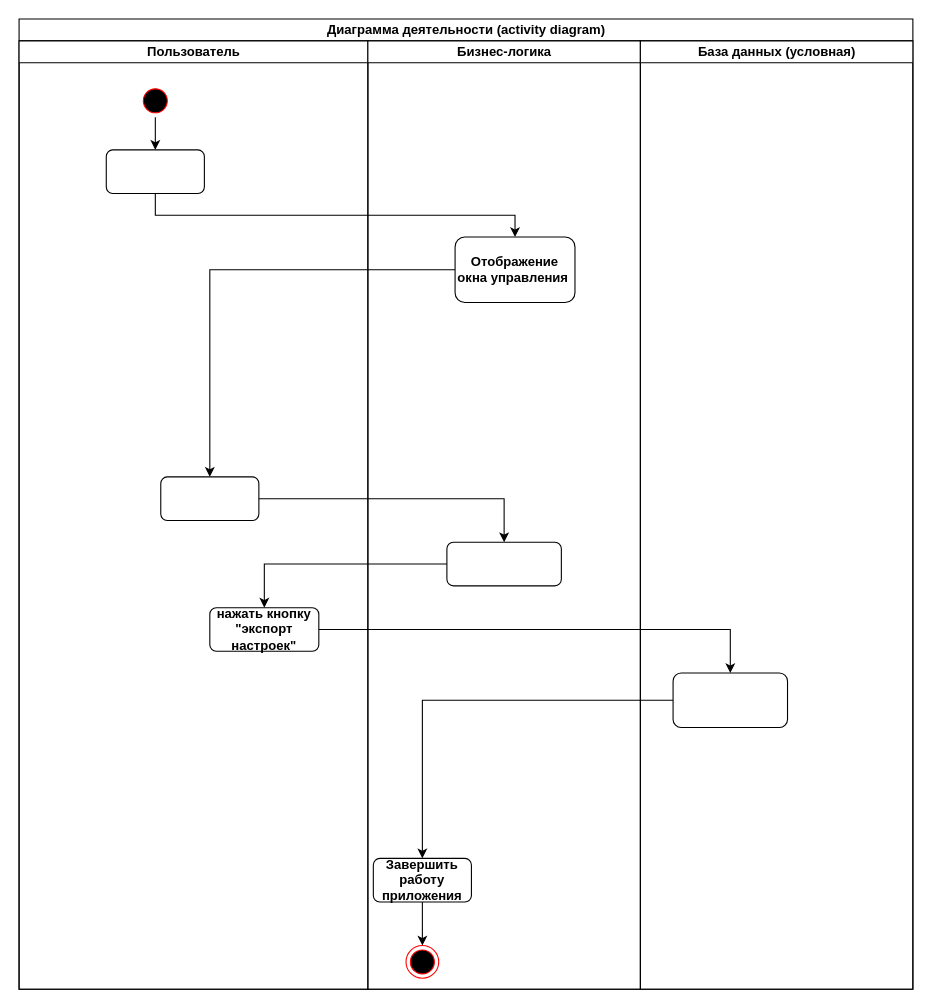
This 932x1008 diagram has some shape labels left out. The shapes that lost their labels are listed below. From the top down, each one's centre as x and y in pixels, then its label:
At pixel 154 171: "Запуск программы".
At pixel 209 498: "открыть настройки".
At pixel 503 563: "отображение окна настроек".
At pixel 730 700: "запись настроек в файл".
